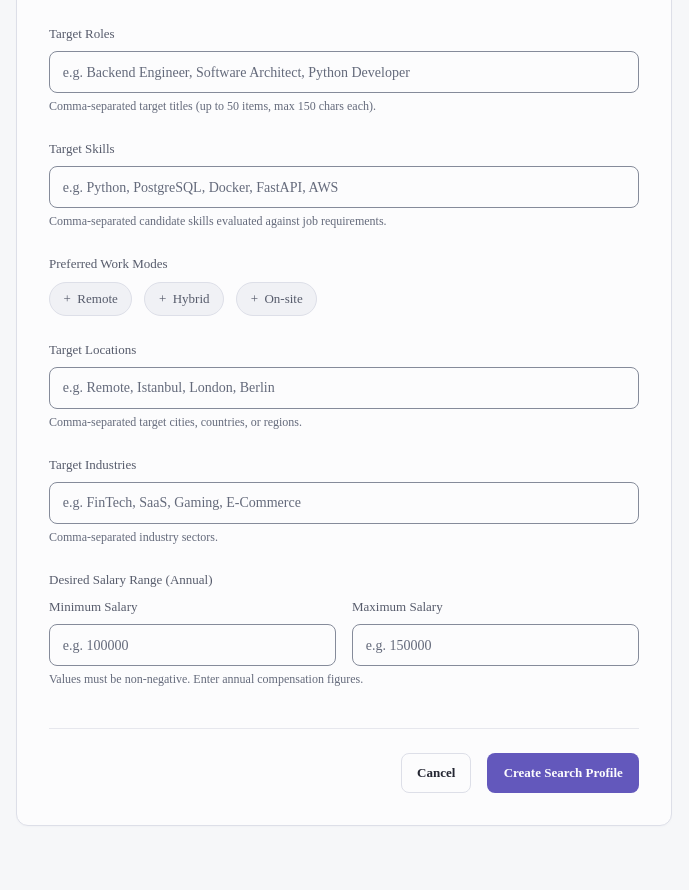
Test: Search Profile Management UI › 4. displays validation error when submitting with empty name
The width and height of the screenshot is (689, 890).
(page scrolled)
Click the button with test id "submit-create-profile-btn": coordinates (563, 773) [488,753,639,793]
(page scrolled)
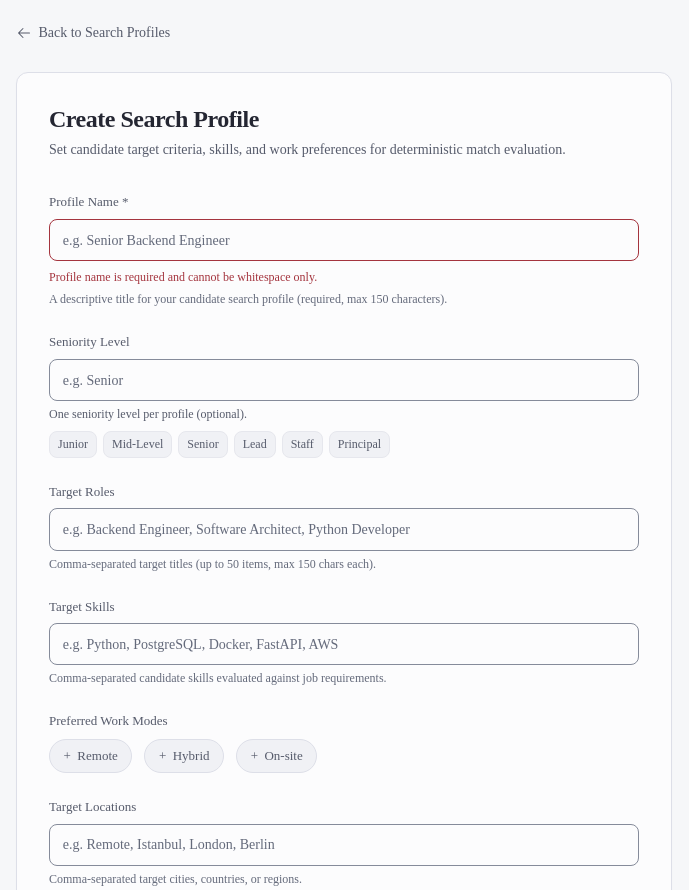
Check: the text "Profile name is required and cannot be whitespace only." is shown, box [49,270,317,284]
